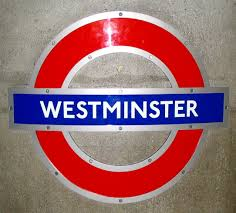London Underground: (15, 11, 229, 201)
